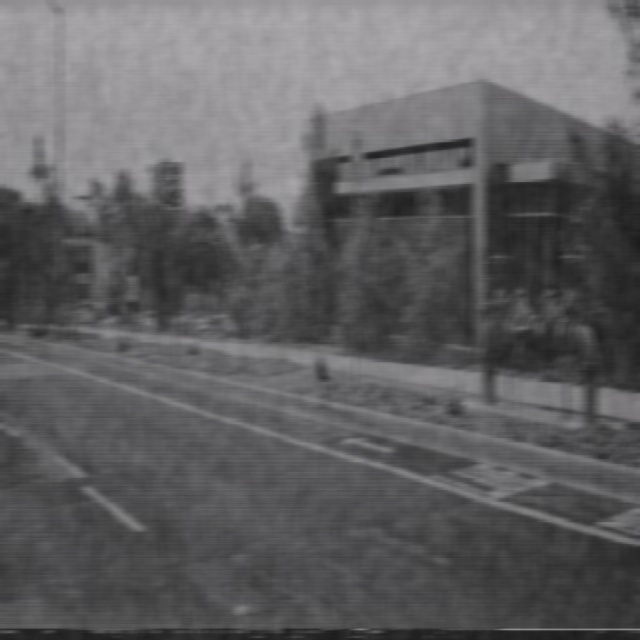speedLimit45: (162, 158, 183, 212)
